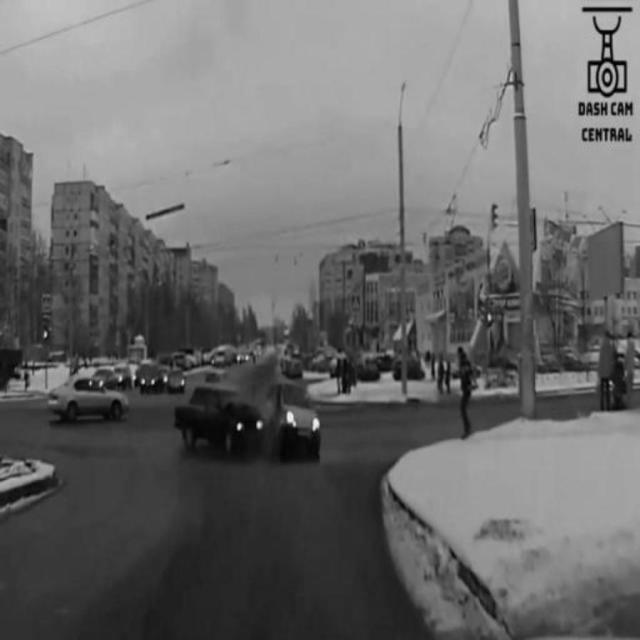accident: (174, 370, 325, 463)
person: (452, 344, 480, 442)
vehicle: (48, 373, 134, 415)
